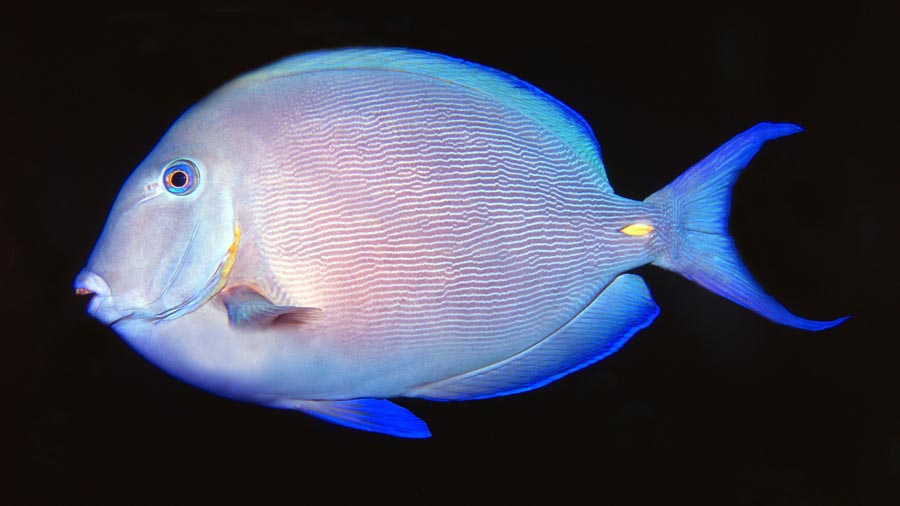Acanthurus_coeruleus: (65, 43, 852, 442)
